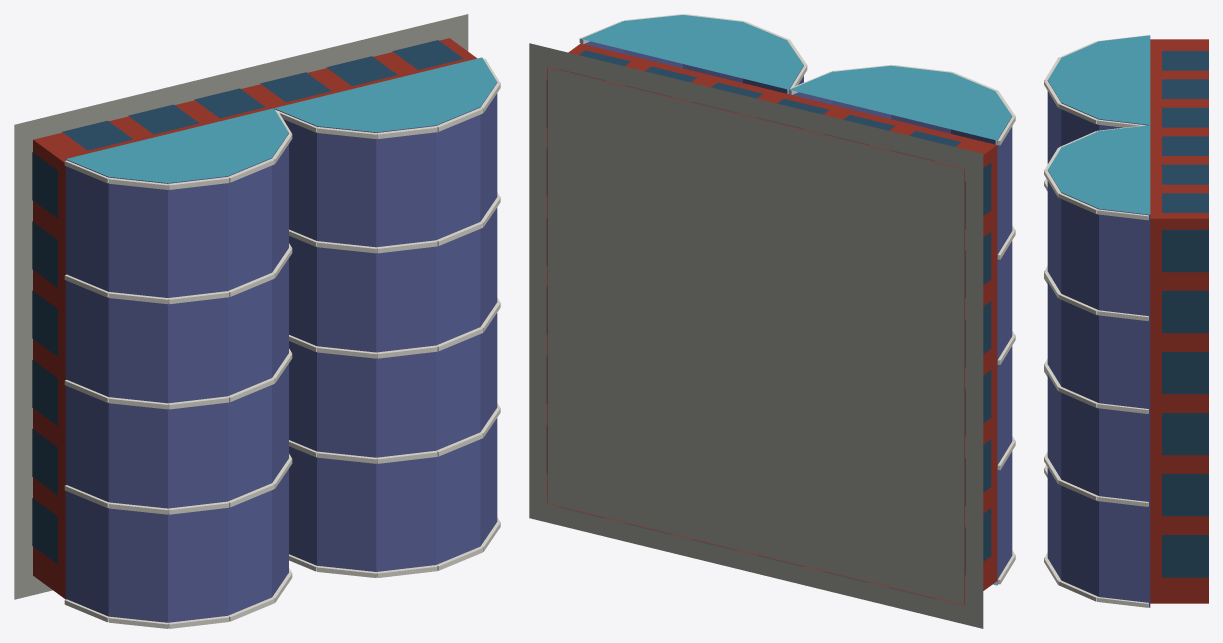
The model's file is complete.glb.
3 renders of one model, left to right at view 1: azimuth 30°, elevation 25°; view 2: azimuth 150°, elevation 25°; view 3: azimuth 270°, elevation 25°, orthographic. The views are drawn at different scales.
Visible parts, largest first — view 1: complete; view 2: complete; view 3: complete.
Part boxes in pixels (x1,y1,x2,y2): complete: (14, 14, 500, 628); complete: (529, 14, 1015, 628); complete: (1044, 35, 1208, 607).
Size of the model in its own units: 31.6 by 31.6 by 11.25.
